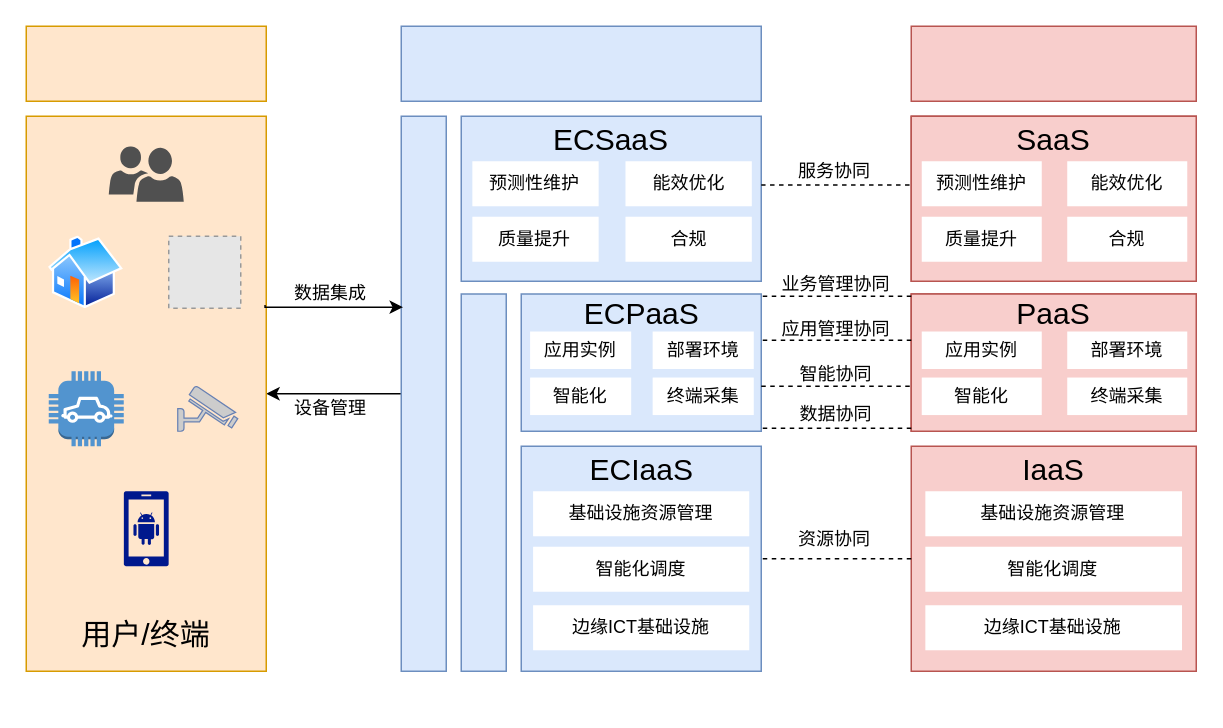
The diagram is 1223 pixels wide and 728 high, and some of its shapes have lost their labels. Grey dashed boxes stand in for pictures. Each missing label, with the centre of its shape:
中心云: point 1053,63
端侧: point 145,63
边缘云场景: point 423,393
边缘侧: point 580,63
边缘节点场景: point 483,481
